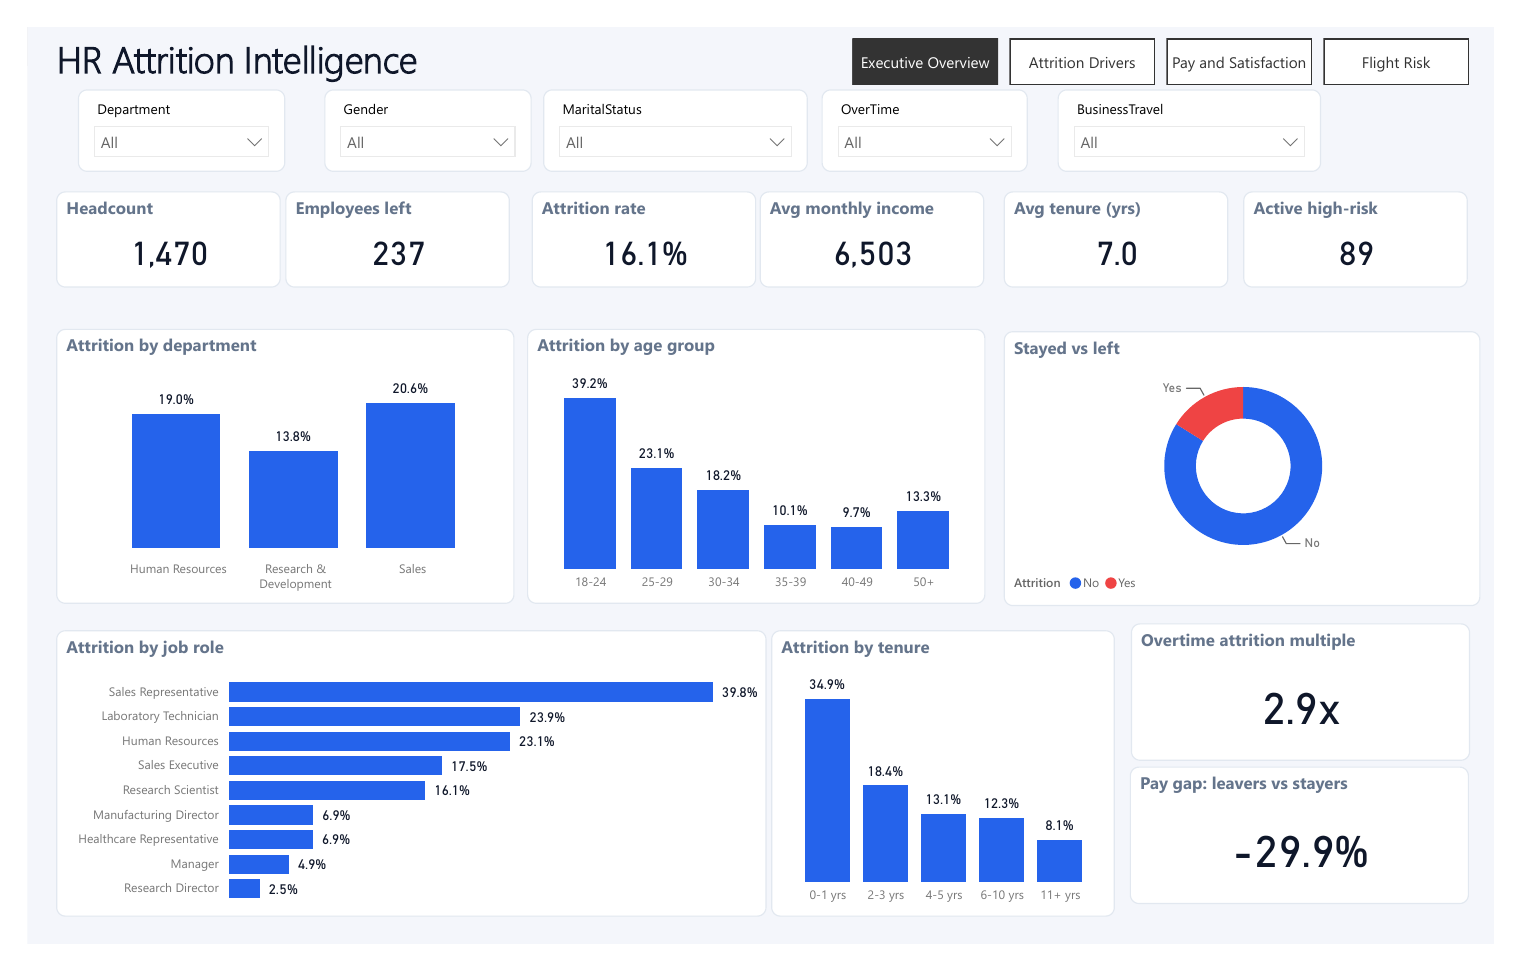

The page's visual inventory and layout, read from the dashboard file:
{"tool":"powerbi","page":{"name":"Executive Overview","canvas":[1280,800],"ordinal":0},"visuals":[{"type":"textbox","box":[20.6,0,688.9,53.5],"z":0},{"type":"pageNavigator","box":[720,10,540,40],"z":1000},{"type":"card","title":"Headcount","fields":{"Values":["HR.Headcount"]},"box":[24.7,142.7,196,84],"z":6000},{"type":"card","title":"Employees left","fields":{"Values":["HR.Employees Left"]},"box":[225,142.7,196,84],"z":7000},{"type":"card","title":"Attrition rate","fields":{"Values":["HR.Attrition Rate"]},"box":[440.5,142.7,196,84],"z":8000},{"type":"card","title":"Avg monthly income","fields":{"Values":["HR.Avg Monthly Income"]},"box":[639.5,142.7,196,84],"z":9000},{"type":"card","title":"Avg tenure (yrs)","fields":{"Values":["HR.Avg Tenure"]},"box":[852.1,142.7,196,84],"z":10000},{"type":"card","title":"Active high-risk","fields":{"Values":["HR.Active High Risk"]},"box":[1060.7,142.7,196,84],"z":11000},{"type":"clusteredColumnChart","title":"Attrition by department","fields":{"Category":["HR.Department"],"Y":["HR.Attrition Rate"]},"box":[24.7,263.5,400,240],"z":12000},{"type":"clusteredColumnChart","title":"Attrition by age group","fields":{"Category":["HR.AgeGroup"],"Y":["HR.Attrition Rate"]},"box":[436.4,263.5,400,240],"z":13000},{"type":"donutChart","title":"Stayed vs left","fields":{"Category":["HR.Attrition"],"Y":["HR.Headcount"]},"box":[852.1,264.8,416,240],"z":14000},{"type":"clusteredBarChart","title":"Attrition by job role","fields":{"Category":["HR.JobRole"],"Y":["HR.Attrition Rate"]},"box":[24.7,525.6,620,250],"z":15000},{"type":"clusteredColumnChart","title":"Attrition by tenure","fields":{"Category":["HR.TenureBand"],"Y":["HR.Attrition Rate"]},"box":[649.1,525.6,300,250],"z":16000},{"type":"card","title":"Overtime attrition multiple","fields":{"Values":["HR.Overtime Lift"]},"box":[963.3,520.1,296,120],"z":17000},{"type":"card","title":"Pay gap: leavers vs stayers","fields":{"Values":["HR.Income Gap %"]},"box":[961.9,644.9,296,120],"z":18000},{"type":"slicer","fields":{"Values":["HR.BusinessTravel"]},"box":[898.8,53.5,230.5,72.7],"z":19004},{"type":"slicer","fields":{"Values":["HR.OverTime"]},"box":[693,53.5,179.8,72.7],"z":19005},{"type":"slicer","fields":{"Values":["HR.MaritalStatus"]},"box":[450.1,53.5,230.5,72.7],"z":19006},{"type":"slicer","fields":{"Values":["HR.Gender"]},"box":[259.3,53.5,181.1,72.7],"z":19007},{"type":"slicer","fields":{"Values":["HR.Department"]},"box":[43.9,53.5,181.1,72.7],"z":19008}]}

Visuals, with their boxes in screenshot pixels (x1, y1, x2, y2), scaled from the page's 1280x800 canvas onto the 1522x972 screenshot:
textbox: 24, 0, 844, 65
pageNavigator: 856, 12, 1498, 61
"Headcount" card: 29, 173, 262, 275
"Employees left" card: 268, 173, 501, 275
"Attrition rate" card: 524, 173, 757, 275
"Avg monthly income" card: 760, 173, 993, 275
"Avg tenure (yrs)" card: 1013, 173, 1246, 275
"Active high-risk" card: 1261, 173, 1494, 275
"Attrition by department" clusteredColumnChart: 29, 320, 505, 612
"Attrition by age group" clusteredColumnChart: 519, 320, 995, 612
"Stayed vs left" donutChart: 1013, 322, 1508, 613
"Attrition by job role" clusteredBarChart: 29, 639, 767, 942
"Attrition by tenure" clusteredColumnChart: 772, 639, 1129, 942
"Overtime attrition multiple" card: 1145, 632, 1497, 778
"Pay gap: leavers vs stayers" card: 1144, 784, 1496, 929
slicer - HR.BusinessTravel: 1069, 65, 1343, 153
slicer - HR.OverTime: 824, 65, 1038, 153
slicer - HR.MaritalStatus: 535, 65, 809, 153
slicer - HR.Gender: 308, 65, 524, 153
slicer - HR.Department: 52, 65, 268, 153
